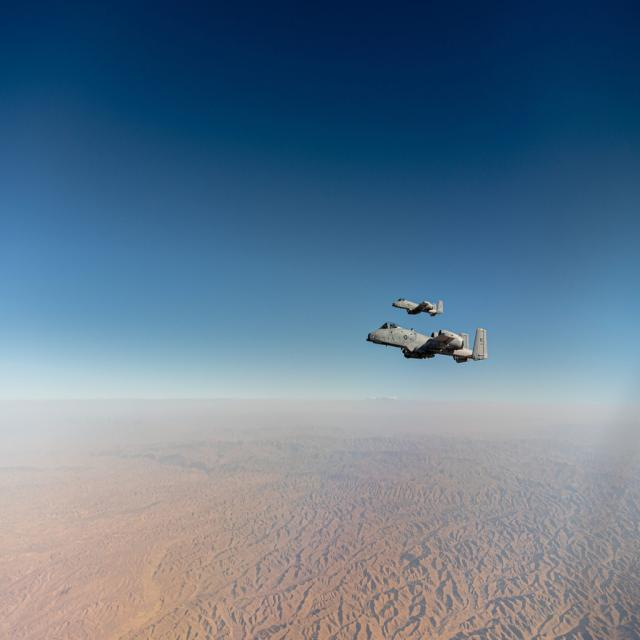MIL_Plane: (366, 321, 488, 364), (391, 297, 444, 317)
